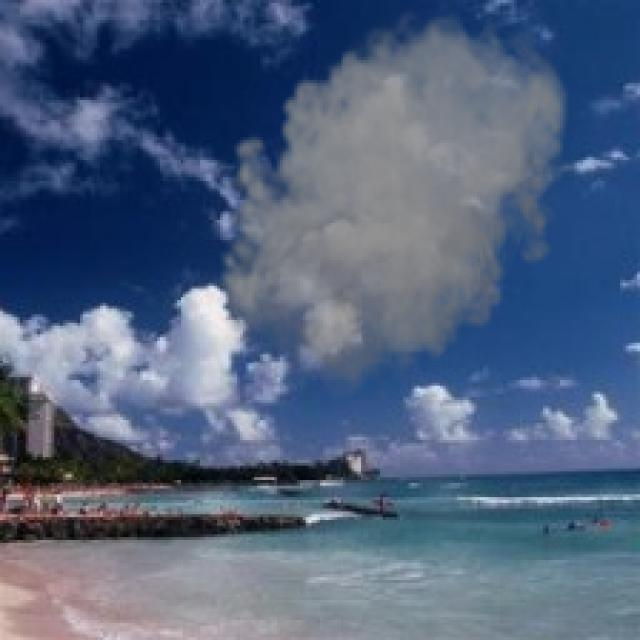Smoke: (208, 2, 574, 412)
